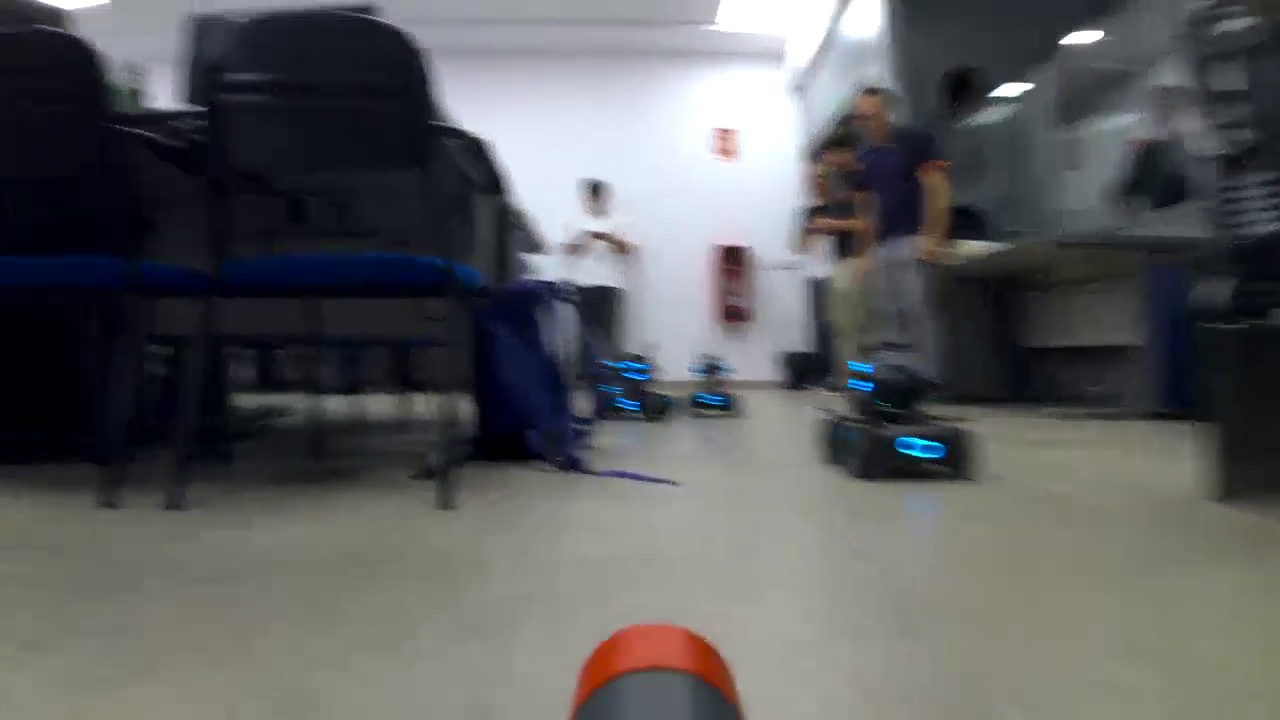robot: (805, 338, 984, 485), (589, 343, 671, 425), (671, 353, 746, 425)
